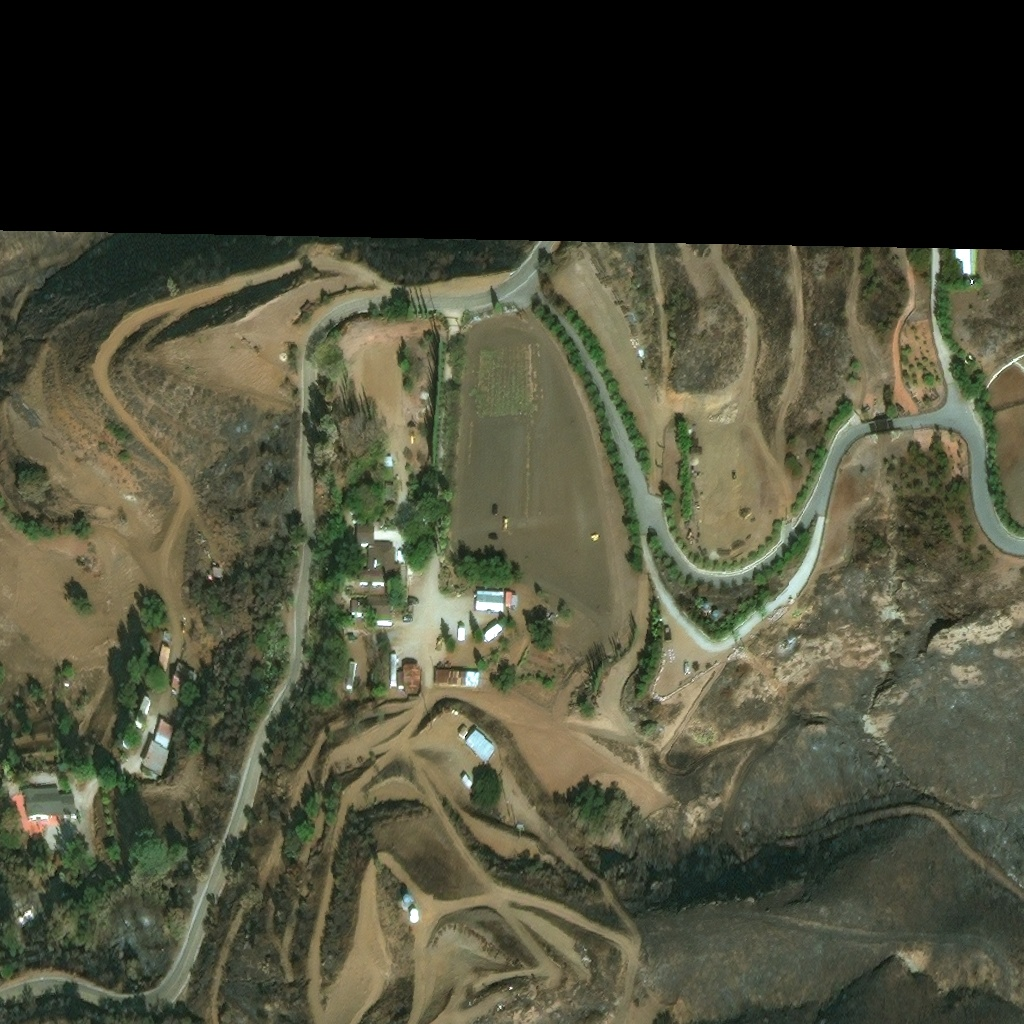0 no-damage: (355, 525, 399, 585), (8, 794, 64, 837), (23, 785, 78, 818), (142, 735, 172, 772), (464, 732, 495, 767), (170, 657, 198, 690), (396, 661, 422, 696), (434, 671, 479, 689), (474, 590, 504, 613), (155, 713, 176, 745), (135, 692, 154, 726), (367, 595, 391, 614), (954, 248, 971, 274), (482, 624, 503, 643), (385, 655, 397, 687), (158, 642, 172, 668), (345, 661, 358, 687), (349, 599, 364, 616), (400, 896, 415, 910), (376, 613, 392, 626), (461, 774, 473, 788), (409, 908, 420, 923), (699, 604, 711, 616), (458, 729, 468, 742), (381, 456, 392, 467), (636, 346, 646, 356), (213, 564, 223, 573), (710, 612, 719, 621), (163, 629, 169, 637), (207, 570, 213, 577), (517, 823, 523, 830)
3 destroyed: (13, 894, 36, 915)
4 un-classified: (496, 812, 502, 820), (525, 823, 531, 829)
